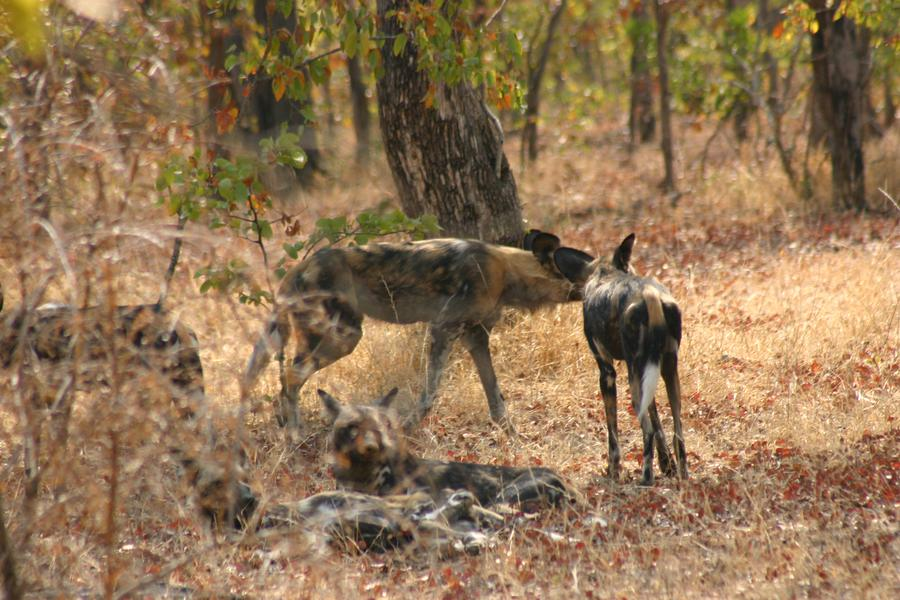wilddog: (270, 247, 549, 384), (9, 298, 203, 412), (559, 248, 679, 369), (306, 388, 427, 499)
